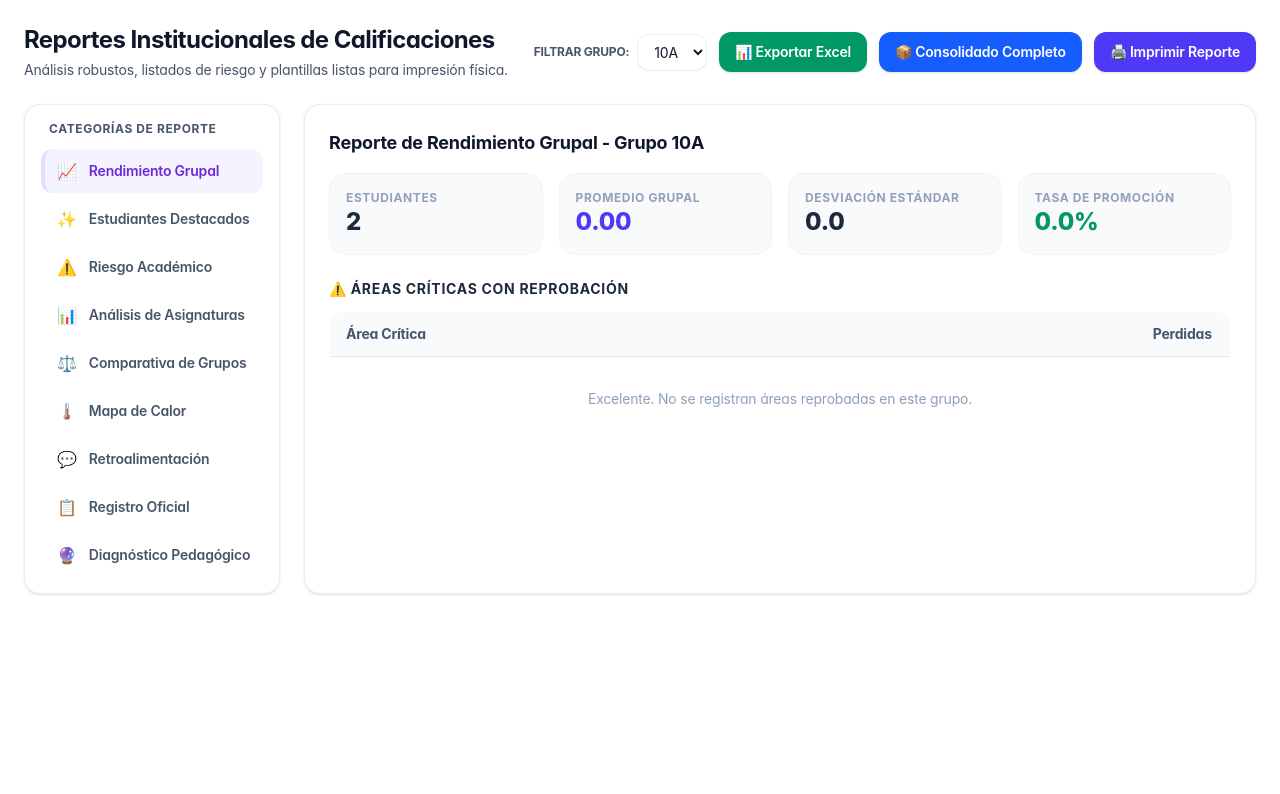
ReportsTab — Insights Wiring (PR 3) › Tab navigation › renders InsightsTab content within ReportsTab when insights tab is active
# Click "Diagnóstico Pedagógico"
Click the button "🔮 Diagnóstico Pedagógico". click: click(152, 555)
box: [41,533,263,577]
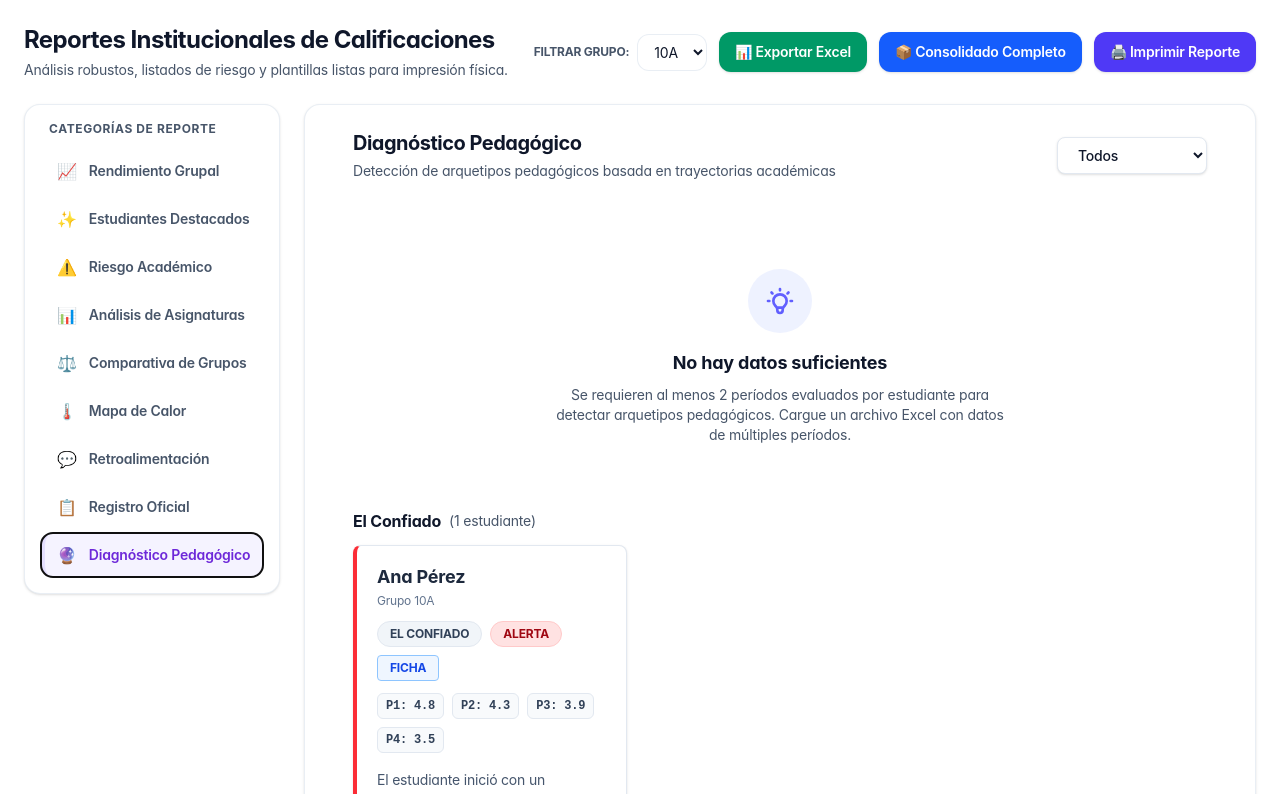
Now the heading "Diagnóstico Pedagógico" is shown, box [353,131,582,155]
